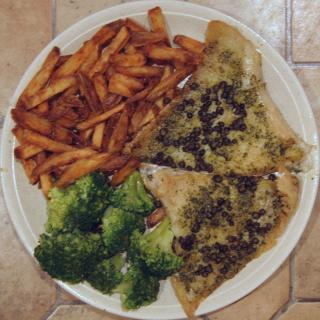Broccoli: (34, 173, 185, 309)
French fries: (10, 3, 208, 188)
